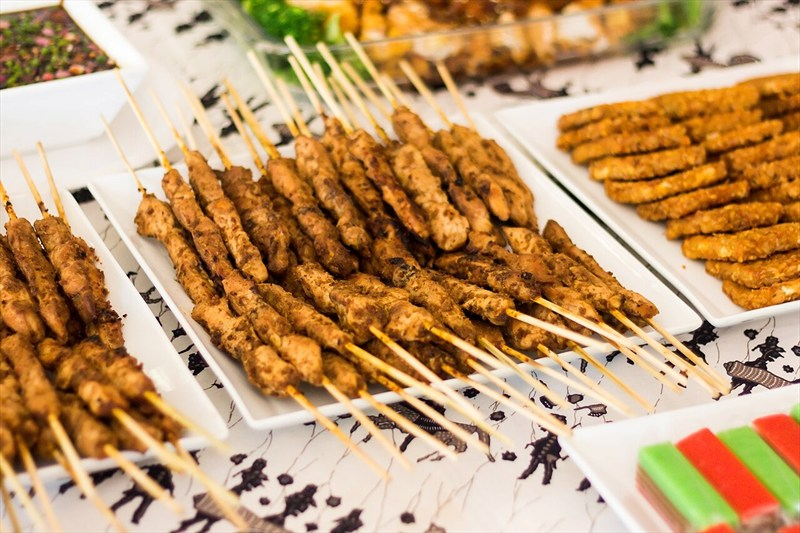Sate Ayam: (92, 115, 733, 441)
